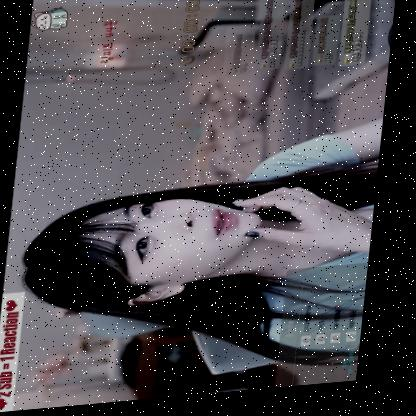streamer: (15, 125, 387, 396)
